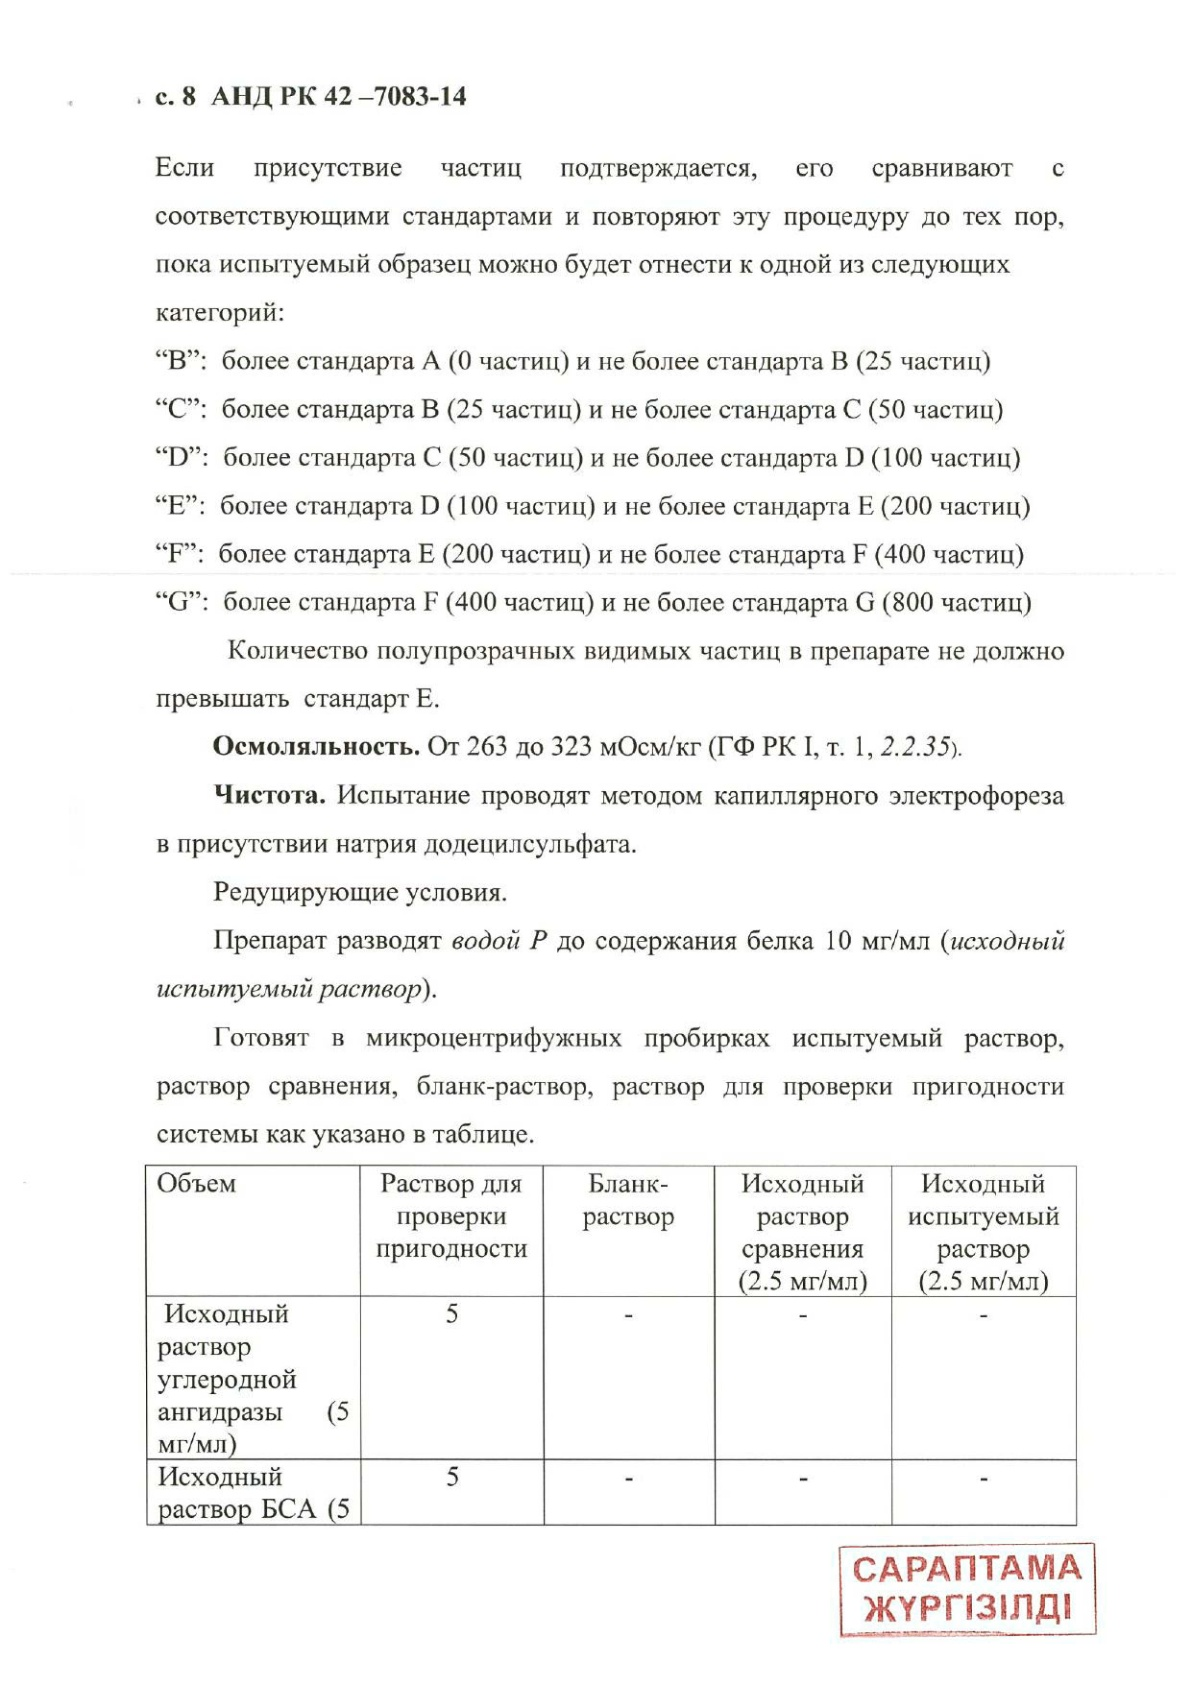full_lined: (144, 1164, 1078, 1528)
